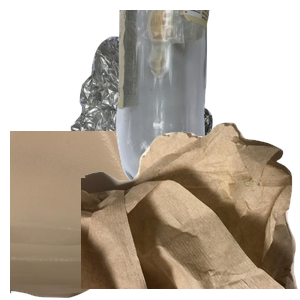glass: (113, 10, 300, 190)
metal: (68, 34, 300, 214)
plastic: (10, 131, 196, 300)
trash: (81, 120, 300, 300)
